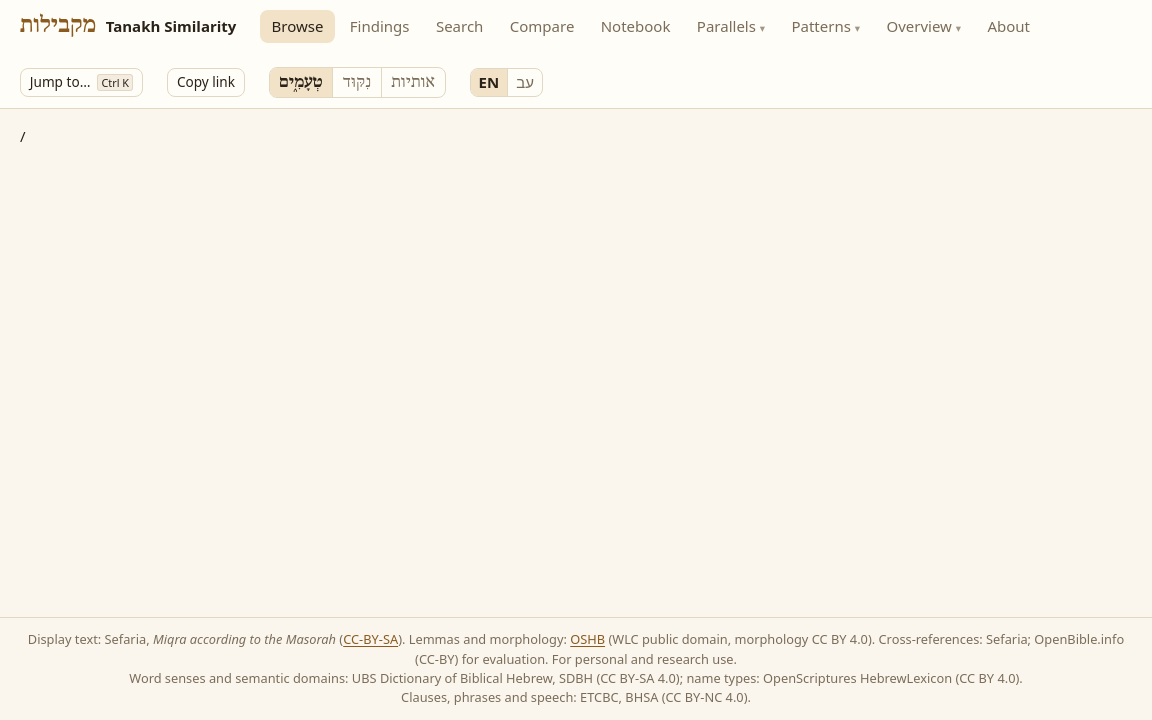
Test: JumpBox › opens the letter value of `= …`
Step 1. Press k
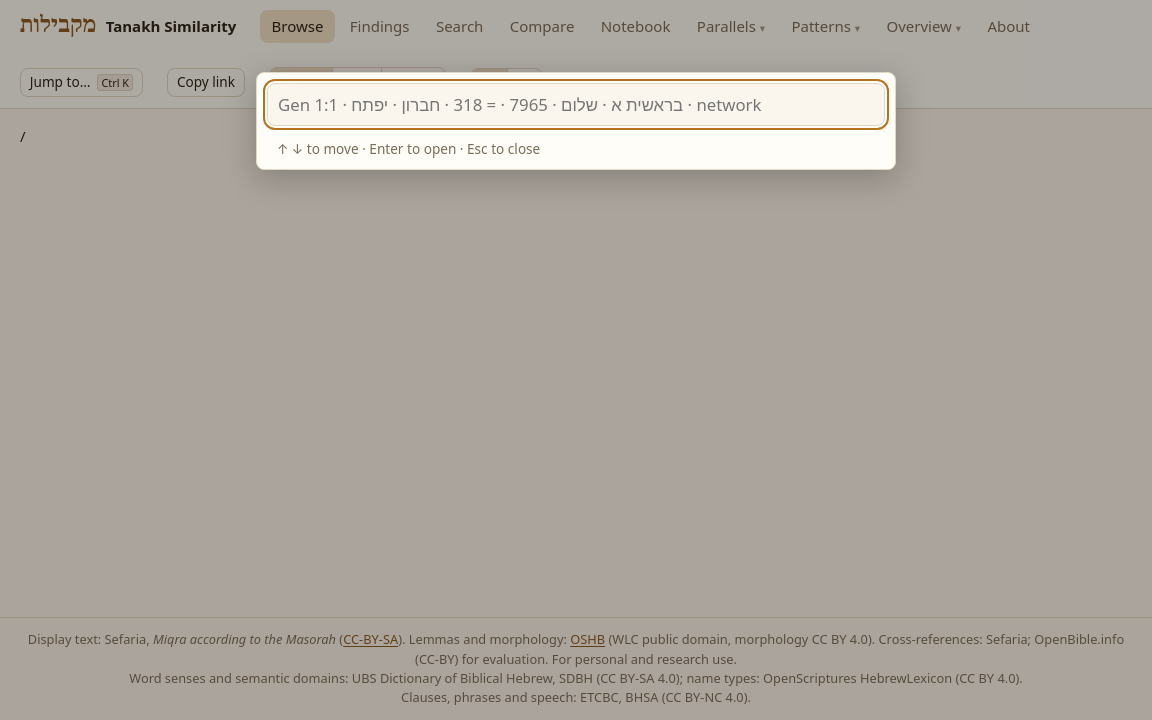
Step 2. Replace the text in the dropdown named "Jump to a passage, a word, a place, a person or a page" with "= 318" → {"x": 576, "y": 104}, box [267, 83, 885, 126]
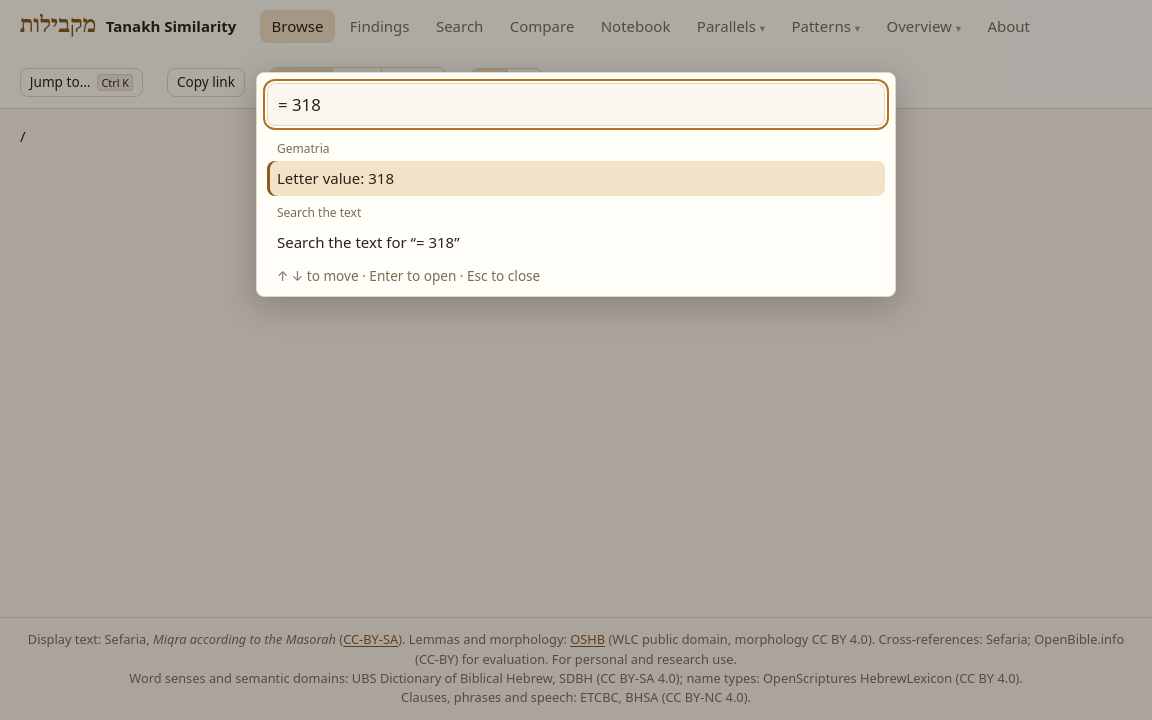
Step 3. Press Enter in the dropdown named "Jump to a passage, a word, a place, a person or a page", box [267, 83, 885, 126]
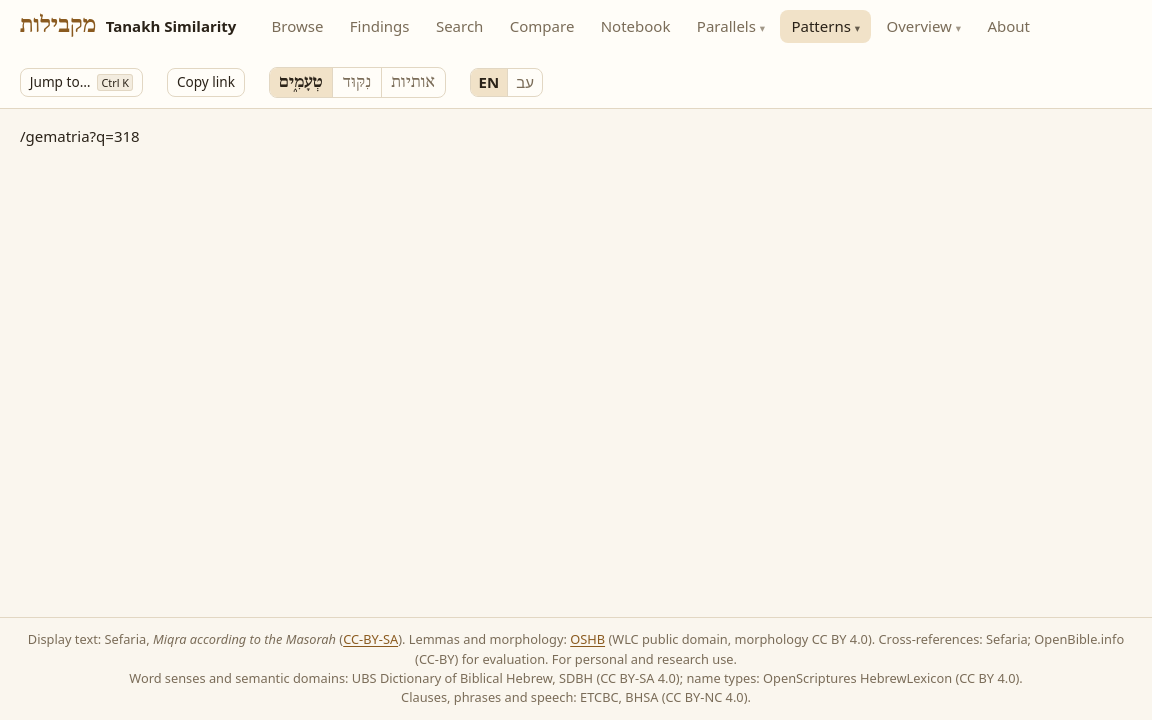
Check: the text with test id "loc" reads "/gematria?q=318", box [20, 126, 140, 146]
